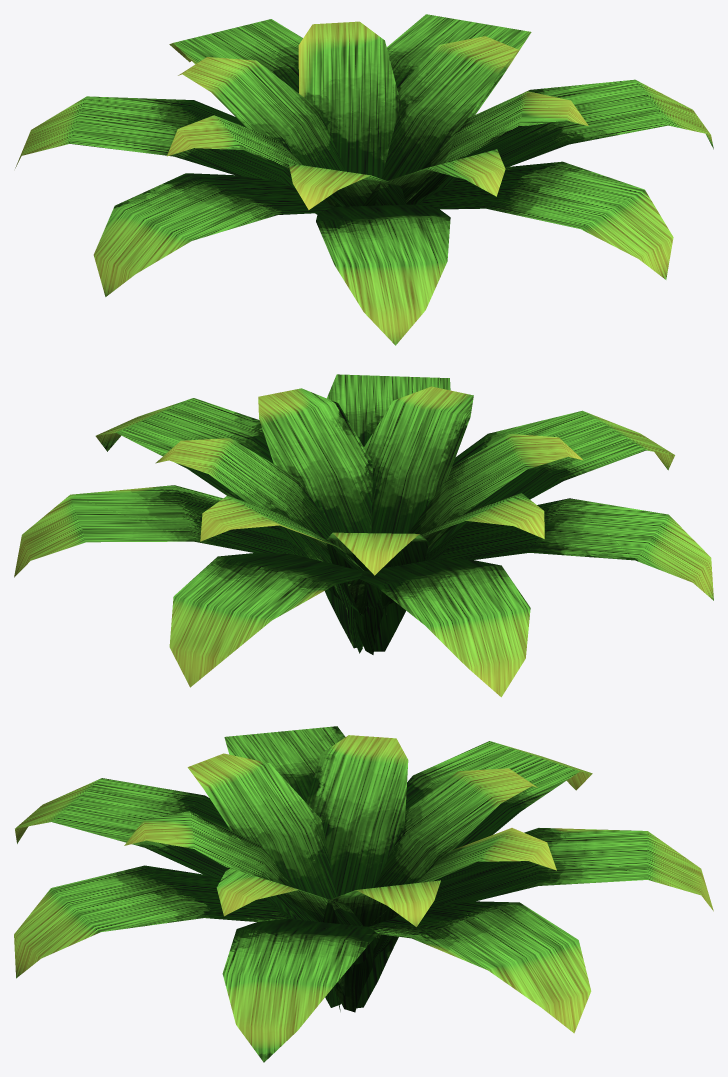
File: PLantas1.fbx
3 renders of one model, top to bottom at view 1: azimuth 30°, elevation 25°; view 2: azimuth 150°, elevation 25°; view 3: azimuth 270°, elevation 25°, orthographic.
Parts seen in each view (by area): view 1: Plane; view 2: Plane; view 3: Plane.
Boxes of the visible parts, x1,y1,x2,y2 form: Plane: (15,14,713,345); Plane: (14,374,713,697); Plane: (14,726,713,1062).
Size of the model in its own units: 409 by 117 by 401.
